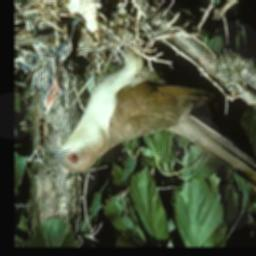Cuckoo: (42, 50, 256, 204)
